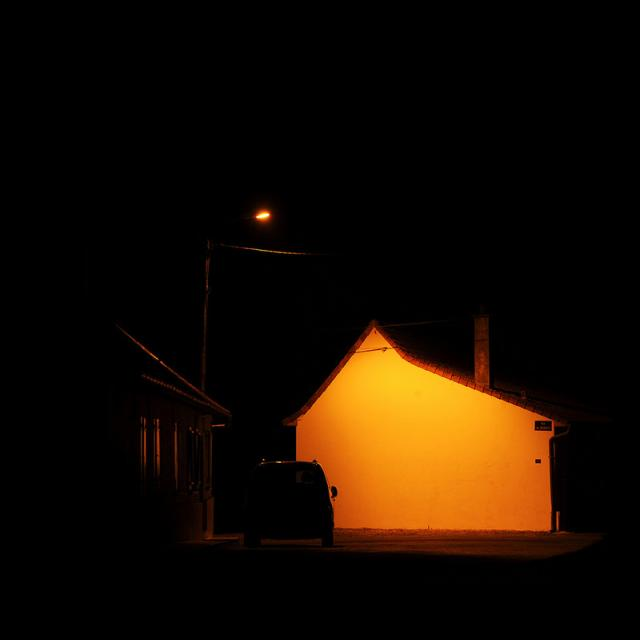Car: (247, 466, 356, 546)
